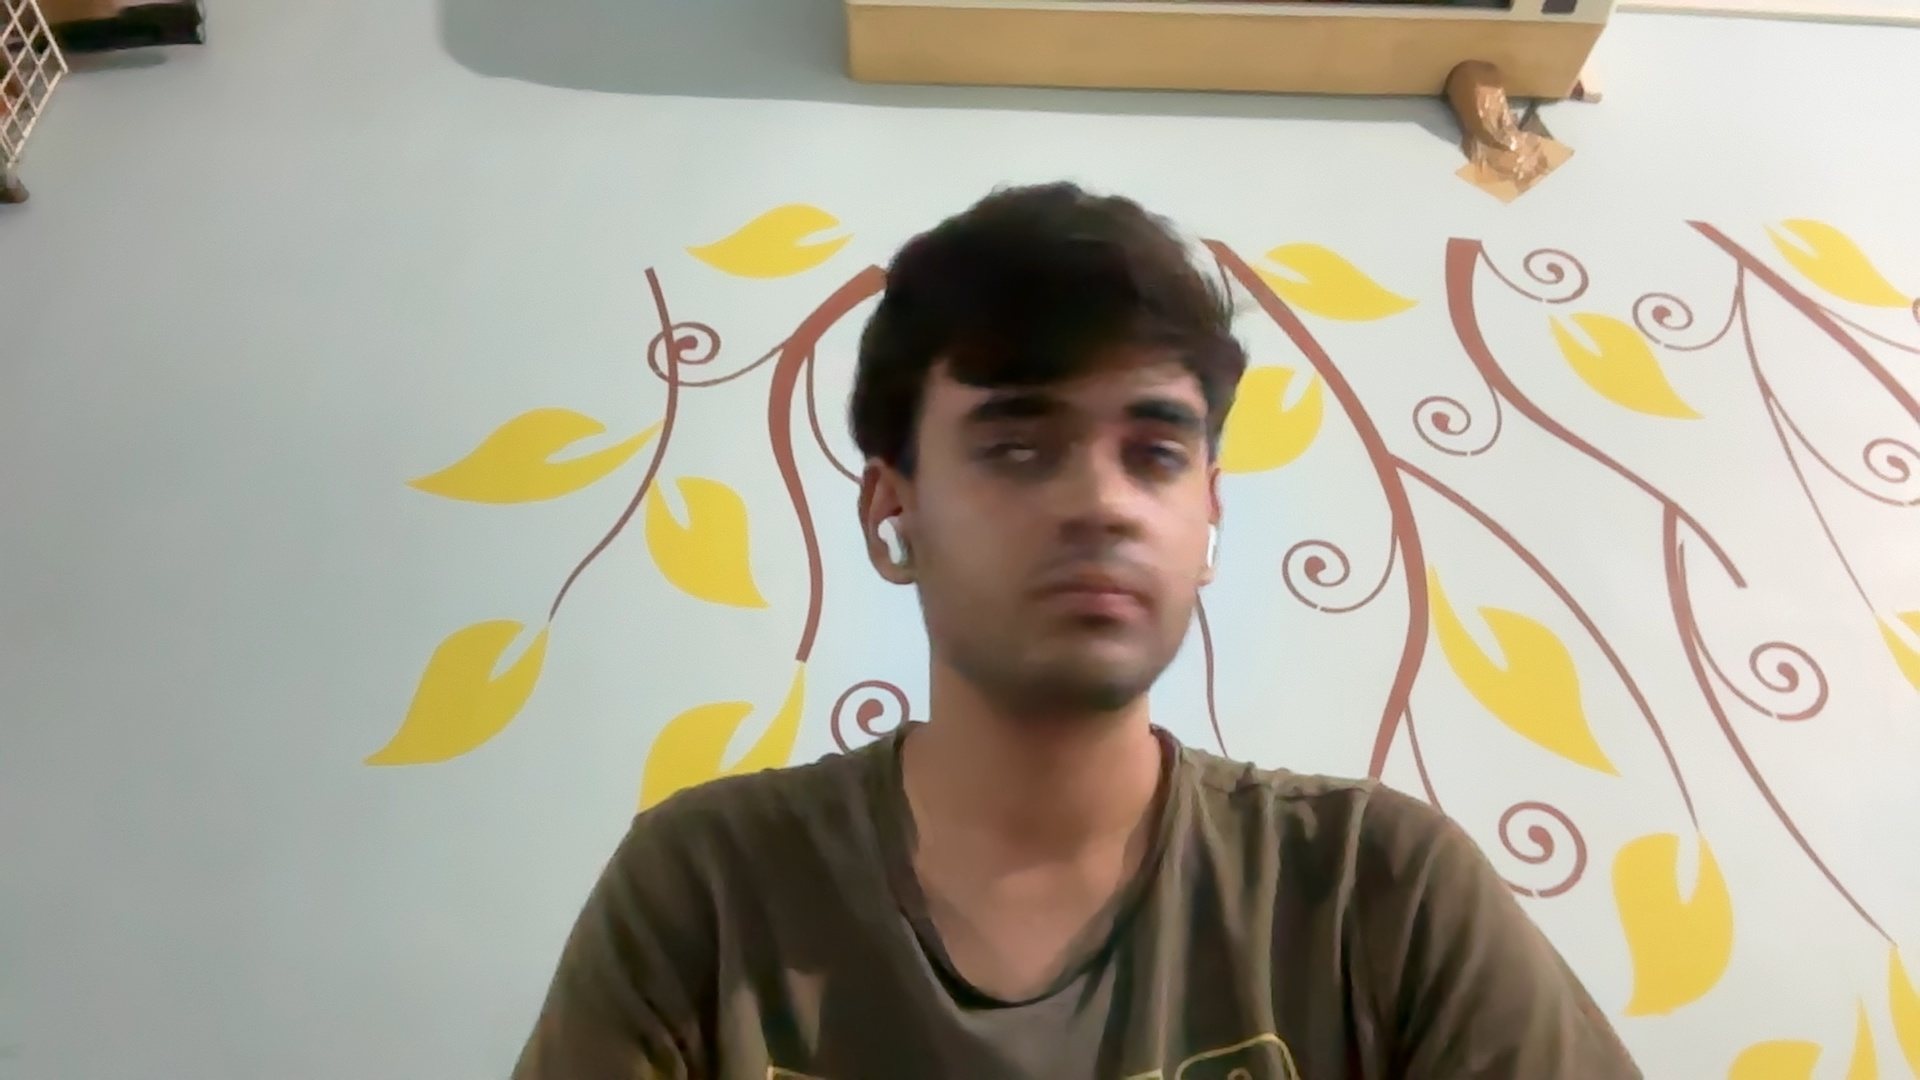No Mask: (929, 489, 1250, 722)
